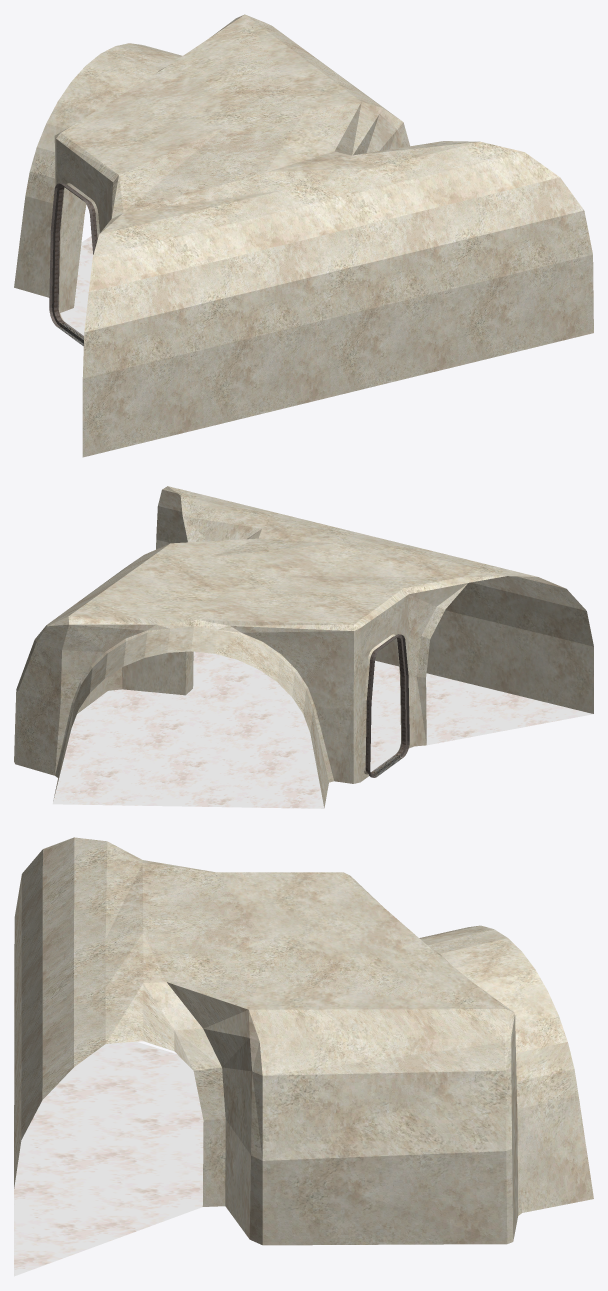
File: thm_tato_assoc_hall_civ_s02_r12_foyer3_mesh_r12.fbx
3 renders of one model, top to bottom at view 1: azimuth 30°, elevation 25°; view 2: azimuth 150°, elevation 25°; view 3: azimuth 270°, elevation 25°, orthographic. The views are drawn at different scales.
Visible parts, largest first — view 1: mesh_node; view 2: mesh_node; view 3: mesh_node.
Boxes of the visible parts, x1,y1,x2,y2 form: mesh_node: (14,14,593,457); mesh_node: (14,486,593,808); mesh_node: (14,837,593,1276).
Bounding box in the file's own units: 11.67 × 4.03 × 10.49.
